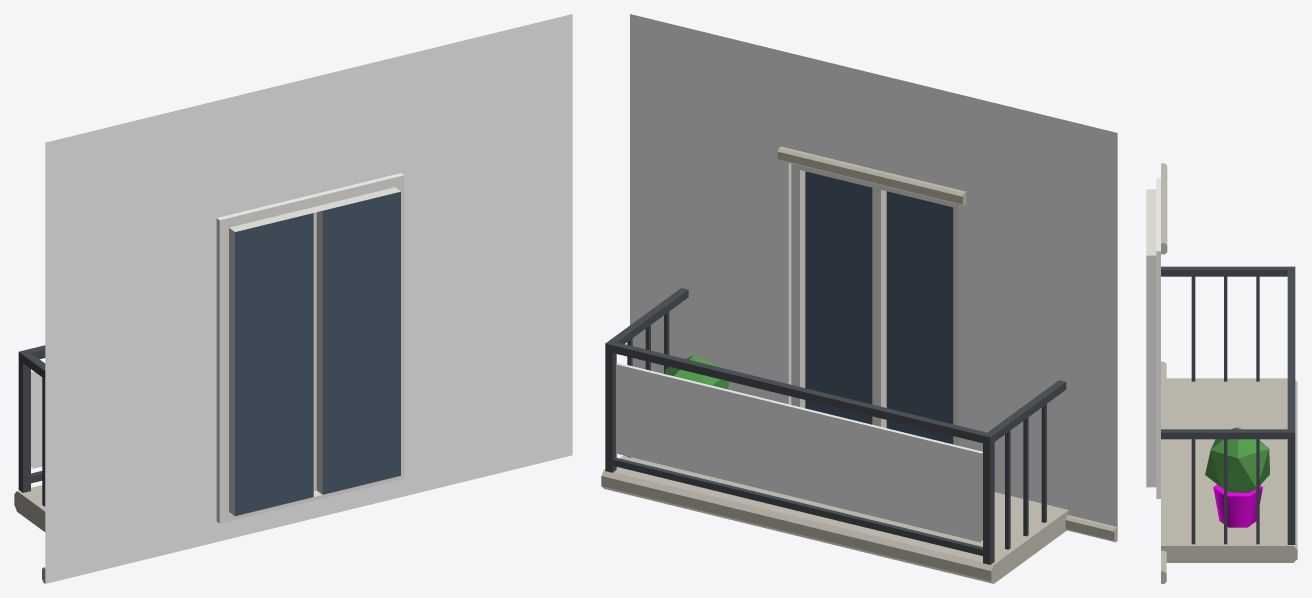
Rendered from apt_balcony.glb.
3 renders of one model, left to right at view 1: azimuth 30°, elevation 25°; view 2: azimuth 150°, elevation 25°; view 3: azimuth 270°, elevation 25°, orthographic. The views are drawn at different scales.
Parts seen in each view (by area): view 1: apt_balcony__mesh; view 2: apt_balcony__mesh; view 3: apt_balcony__mesh.
Part boxes in pixels (left/top/right/bottom): apt_balcony__mesh: left=14, top=14, right=572, bottom=583; apt_balcony__mesh: left=601, top=14, right=1117, bottom=583; apt_balcony__mesh: left=1146, top=163, right=1297, bottom=583.
Size of what is drawn, in the model's own units: 4 by 3.2 by 1.22.
3 materials, 2 textured.
